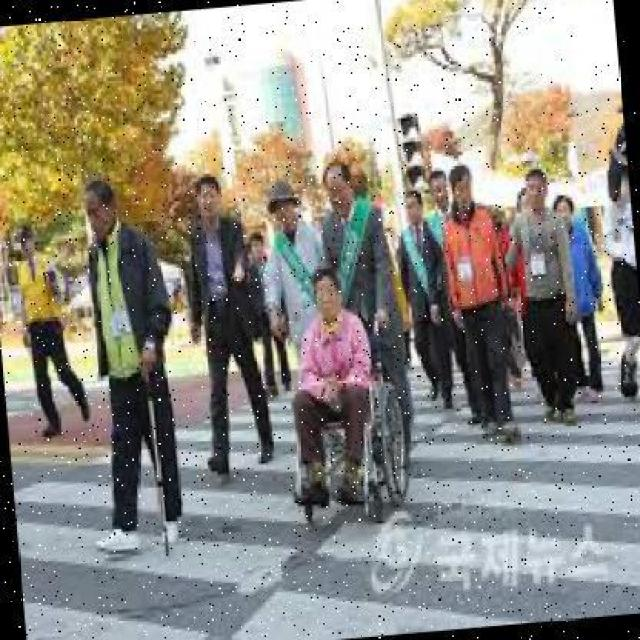Person: (64, 177, 194, 563), (275, 262, 413, 533), (313, 156, 416, 459), (178, 170, 278, 476), (439, 166, 519, 452), (498, 166, 584, 426), (10, 213, 93, 439), (416, 168, 479, 430), (258, 178, 332, 376), (391, 187, 455, 410), (552, 189, 614, 402)
